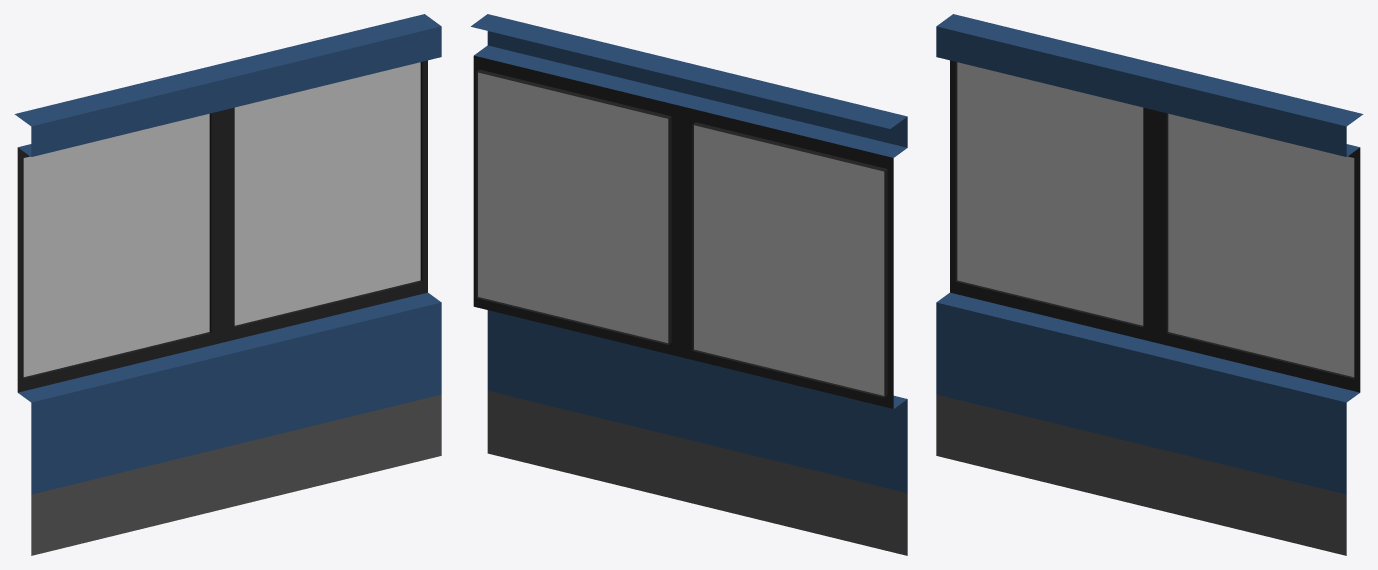
Rendered from M_WallFWindow200Blue50-2.fbx.
The picture shows the model from 3 angles, left to right: view 1: azimuth 30°, elevation 25°; view 2: azimuth 150°, elevation 25°; view 3: azimuth 330°, elevation 25°; orthographic projection. The views are drawn at different scales.
Parts seen in each view (by area): view 1: M_WallFWindow200Blue50-2; view 2: M_WallFWindow200Blue50-2; view 3: M_WallFWindow200Blue50-2.
Boxes of the visible parts, left/top/right/bottom form: M_WallFWindow200Blue50-2: left=14, top=14, right=441, bottom=555; M_WallFWindow200Blue50-2: left=471, top=14, right=907, bottom=555; M_WallFWindow200Blue50-2: left=936, top=14, right=1363, bottom=555.
Bounding box in the file's own units: 350 × 25 × 350.
